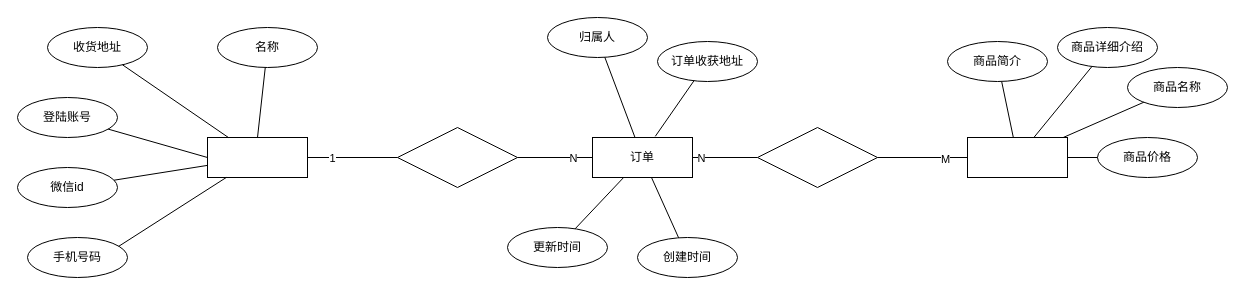
Some shapes in this 1245 by 295 pixel diagram are drawn without their labels. The shapes that lost their labels are listed below. From the top down, each one's centre as x and y in pixels, then its label:
At (257,157): "用户".
At (457,157): "拥有".
At (817,157): "包括".
At (1017,157): "商品".
